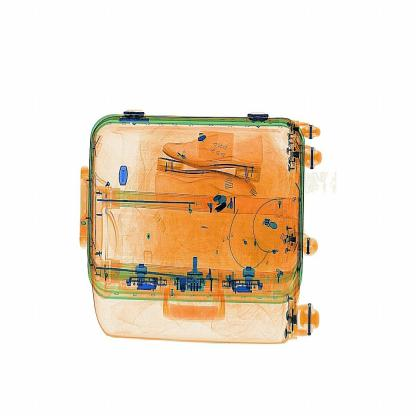knife: (206, 187, 237, 223)
